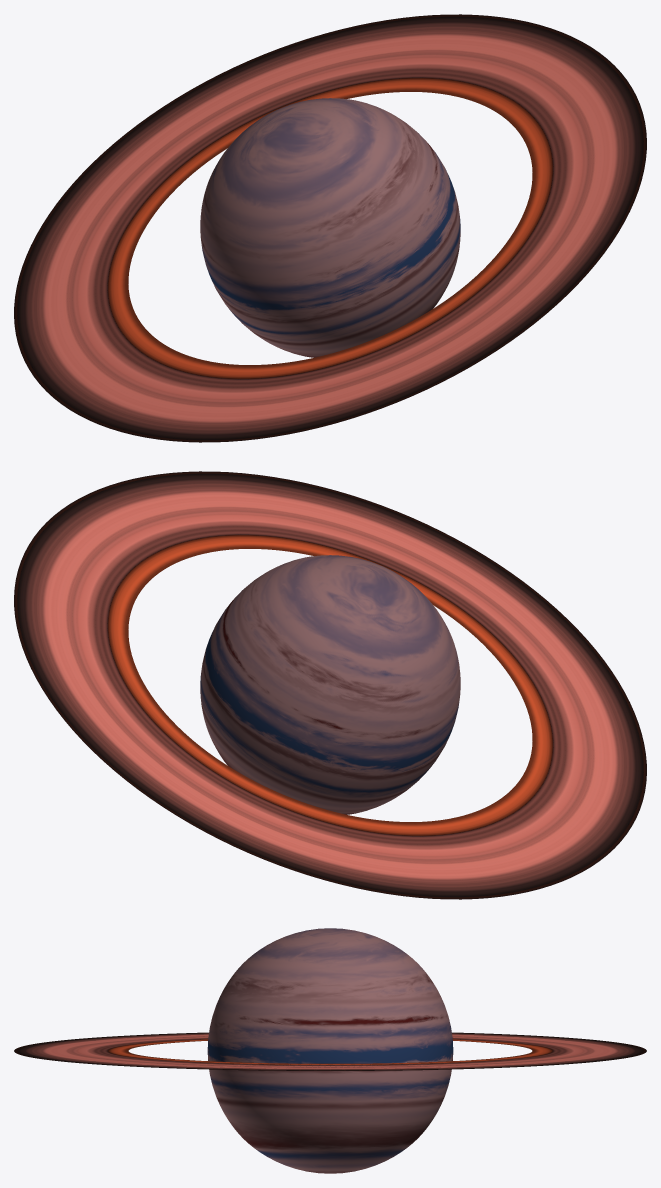
File: gas_giant.glb
The picture shows the model from 3 angles, top to bottom: view 1: azimuth 30°, elevation 25°; view 2: azimuth 150°, elevation 25°; view 3: azimuth 270°, elevation 25°; orthographic projection. The views are drawn at different scales.
Parts seen in each view (by area): view 1: gas_giant; view 2: gas_giant; view 3: gas_giant.
Part boxes in pixels (left/top/right/bottom): gas_giant: left=14, top=14, right=646, bottom=442; gas_giant: left=14, top=471, right=646, bottom=899; gas_giant: left=14, top=928, right=646, bottom=1173.
Size of the model in its own units: 24.04 by 10.04 by 25.81.
2 materials, 2 textured.
